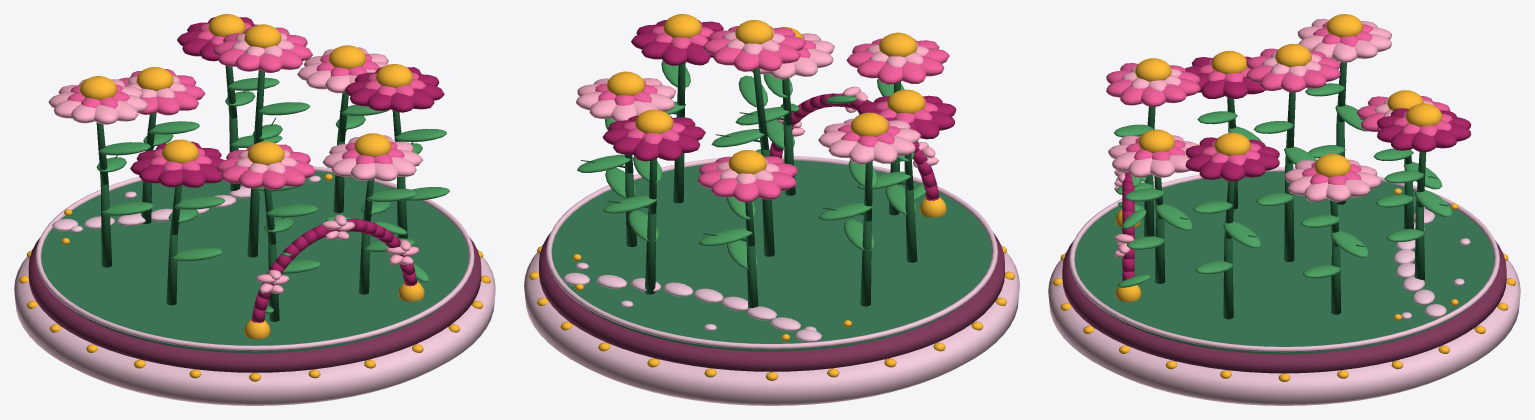
Rendered from PinkBotanicalGarden.fbx.
3 views of the same model, side by side, from view 1: azimuth 30°, elevation 25°; view 2: azimuth 150°, elevation 25°; view 3: azimuth 270°, elevation 25° (orthographic). The views are drawn at different scales.
Visible parts, largest first — view 1: Mesh_MAT_Sage_Garden, Mesh_MAT_Pearl_Stone, Mesh_MAT_RoseQuartz_Soil, Mesh_MAT_Botanical_Leaf, Mesh_MAT_Petal_Pink, Mesh_MAT_Petal_Blush, Mesh_MAT_Pollen_Gold, Mesh_MAT_Botanical_Stem, Mesh_MAT_Petal_Magenta; view 2: Mesh_MAT_Sage_Garden, Mesh_MAT_Pearl_Stone, Mesh_MAT_RoseQuartz_Soil, Mesh_MAT_Petal_Pink, Mesh_MAT_Botanical_Leaf, Mesh_MAT_Petal_Blush, Mesh_MAT_Botanical_Stem, Mesh_MAT_Pollen_Gold, Mesh_MAT_Petal_Magenta; view 3: Mesh_MAT_Sage_Garden, Mesh_MAT_Pearl_Stone, Mesh_MAT_Botanical_Leaf, Mesh_MAT_RoseQuartz_Soil, Mesh_MAT_Petal_Pink, Mesh_MAT_Petal_Blush, Mesh_MAT_Pollen_Gold, Mesh_MAT_Botanical_Stem, Mesh_MAT_Petal_Magenta.
Boxes of the visible parts, box(x1,y1,x2,y2) form: Mesh_MAT_Sage_Garden: box(41, 170, 468, 353); Mesh_MAT_Pearl_Stone: box(14, 166, 495, 405); Mesh_MAT_RoseQuartz_Soil: box(28, 237, 481, 372); Mesh_MAT_Botanical_Leaf: box(96, 77, 449, 313); Mesh_MAT_Petal_Pink: box(67, 22, 425, 189); Mesh_MAT_Petal_Blush: box(48, 33, 422, 293); Mesh_MAT_Pollen_Gold: box(19, 14, 490, 381); Mesh_MAT_Botanical_Stem: box(96, 66, 413, 321); Mesh_MAT_Petal_Magenta: box(130, 17, 444, 323); Mesh_MAT_Sage_Garden: box(552, 160, 991, 351); Mesh_MAT_Pearl_Stone: box(524, 155, 1019, 405); Mesh_MAT_RoseQuartz_Soil: box(539, 231, 1004, 371); Mesh_MAT_Petal_Pink: box(595, 23, 949, 202); Mesh_MAT_Botanical_Leaf: box(577, 60, 926, 269); Mesh_MAT_Petal_Blush: box(576, 29, 938, 184); Mesh_MAT_Botanical_Stem: box(581, 62, 917, 308); Mesh_MAT_Pollen_Gold: box(529, 14, 1014, 380); Mesh_MAT_Petal_Magenta: box(602, 20, 956, 200); Mesh_MAT_Sage_Garden: box(1074, 171, 1494, 354); Mesh_MAT_Pearl_Stone: box(1048, 167, 1520, 405); Mesh_MAT_Botanical_Leaf: box(1114, 83, 1452, 287); Mesh_MAT_RoseQuartz_Soil: box(1062, 240, 1506, 373); Mesh_MAT_Petal_Pink: box(1106, 21, 1452, 185); Mesh_MAT_Petal_Blush: box(1108, 18, 1434, 257); Mesh_MAT_Pollen_Gold: box(1053, 14, 1515, 381); Mesh_MAT_Botanical_Stem: box(1144, 62, 1447, 319); Mesh_MAT_Petal_Magenta: box(1122, 56, 1471, 281).
Bounding box in the file's own units: 200 × 128 × 200.
